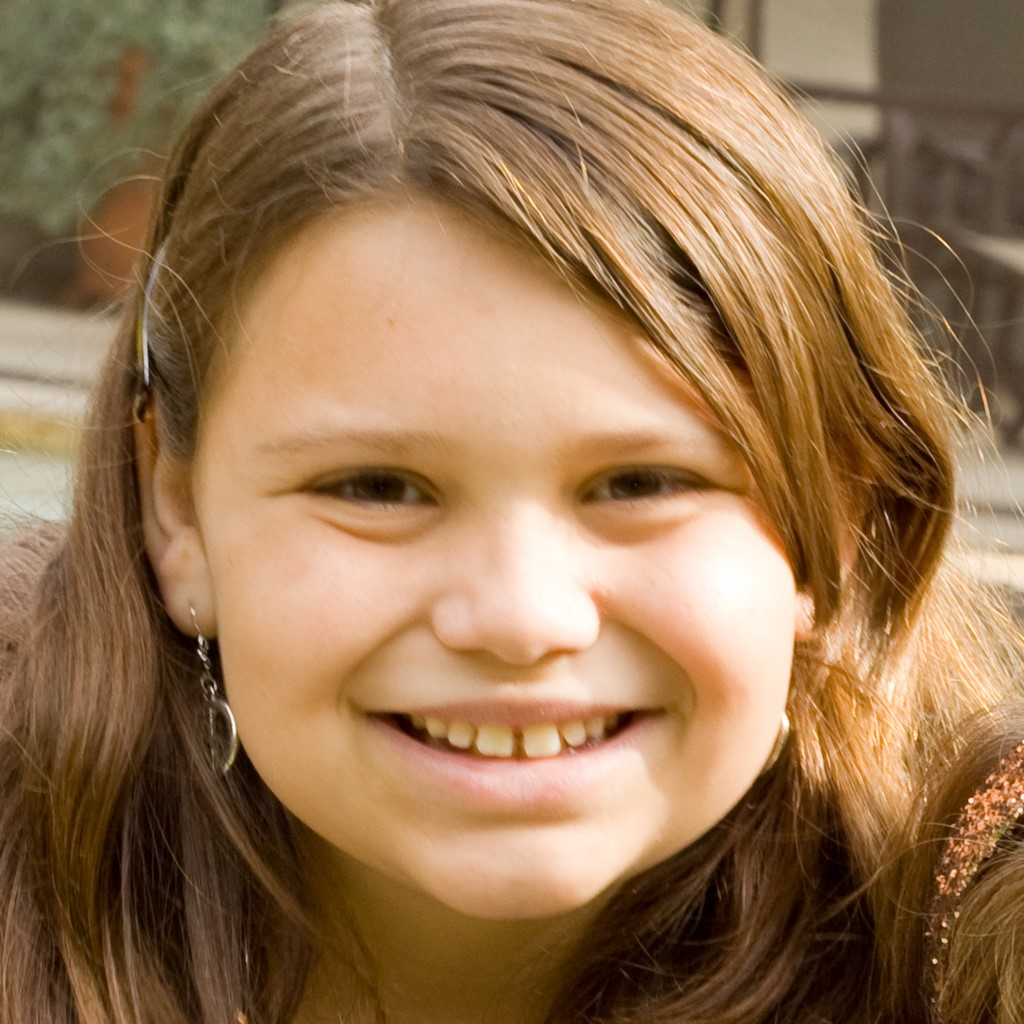sin_mascara: (207, 141, 792, 921)
